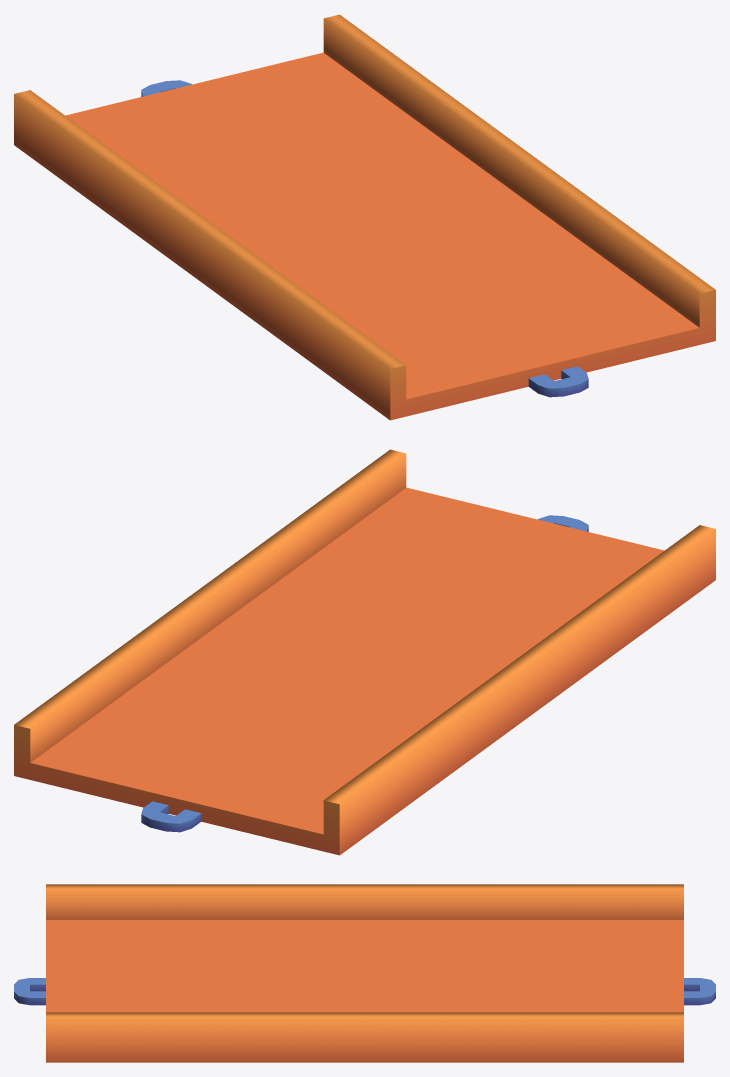
Rendered from track-wide-straight.glb.
The picture shows the model from 3 angles, top to bottom: view 1: azimuth 30°, elevation 25°; view 2: azimuth 150°, elevation 25°; view 3: azimuth 270°, elevation 25°; orthographic projection. The views are drawn at different scales.
Parts seen in each view (by area): view 1: track-wide-straight; view 2: track-wide-straight; view 3: track-wide-straight.
Boxes of the visible parts, x1,y1,x2,y2 form: track-wide-straight: (14, 14, 715, 420); track-wide-straight: (14, 449, 715, 855); track-wide-straight: (14, 884, 715, 1062).
Bounding box in the file's own units: 6 × 0.9 × 13.2.
Materials: 1 (1 with a texture image).
